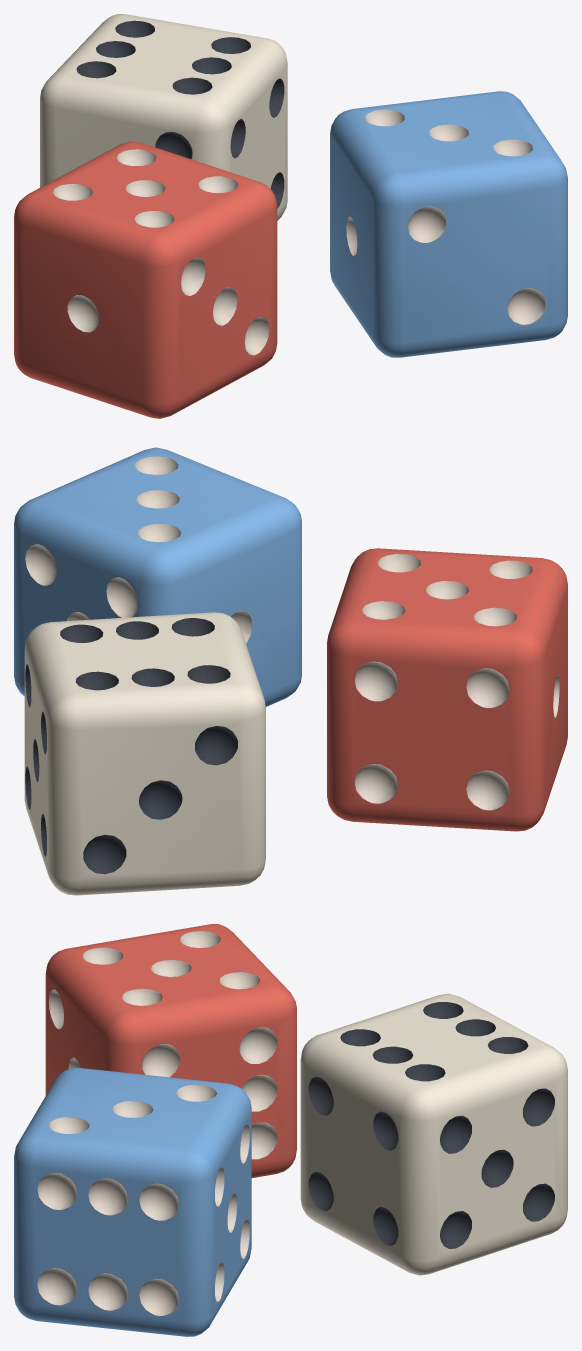
Rendered from dice.glb.
3 views of the same model, one above another, from view 1: azimuth 30°, elevation 25°; view 2: azimuth 150°, elevation 25°; view 3: azimuth 270°, elevation 25° (orthographic). The views are drawn at different scales.
Visible parts, largest first — view 1: dice_body; view 2: dice_body; view 3: dice_body.
Boxes of the visible parts, x1,y1,x2,y2 form: dice_body: (14, 14, 567, 418); dice_body: (14, 447, 567, 895); dice_body: (14, 924, 567, 1336).
Size of the model in its own units: 0.0451 by 0.016 by 0.0432.
1 material, 1 textured.
